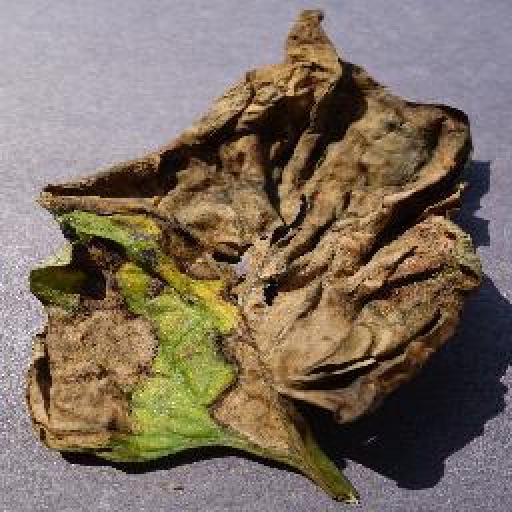Late Blight: (20, 8, 487, 467)
